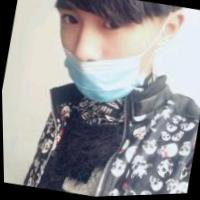WRONG: (44, 1, 164, 117)
